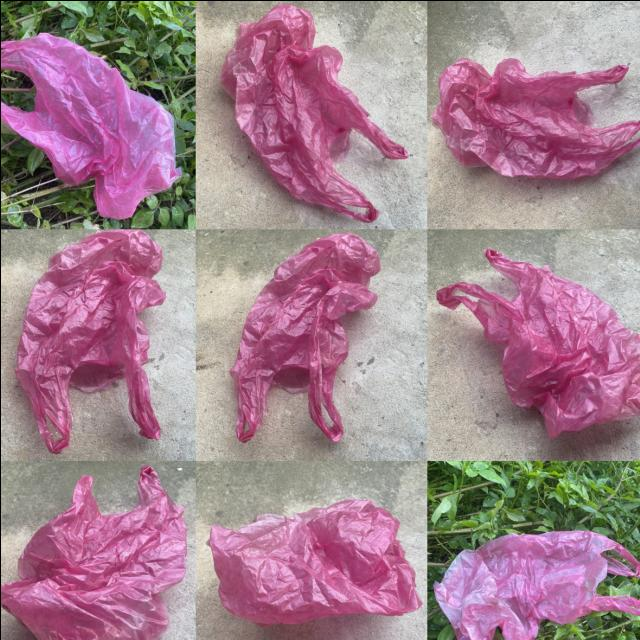plastik: (220, 4, 407, 221), (435, 248, 640, 437), (0, 32, 180, 218), (15, 229, 164, 452), (0, 465, 186, 640), (229, 232, 380, 441), (207, 499, 420, 626), (430, 56, 640, 178), (433, 530, 640, 640)
